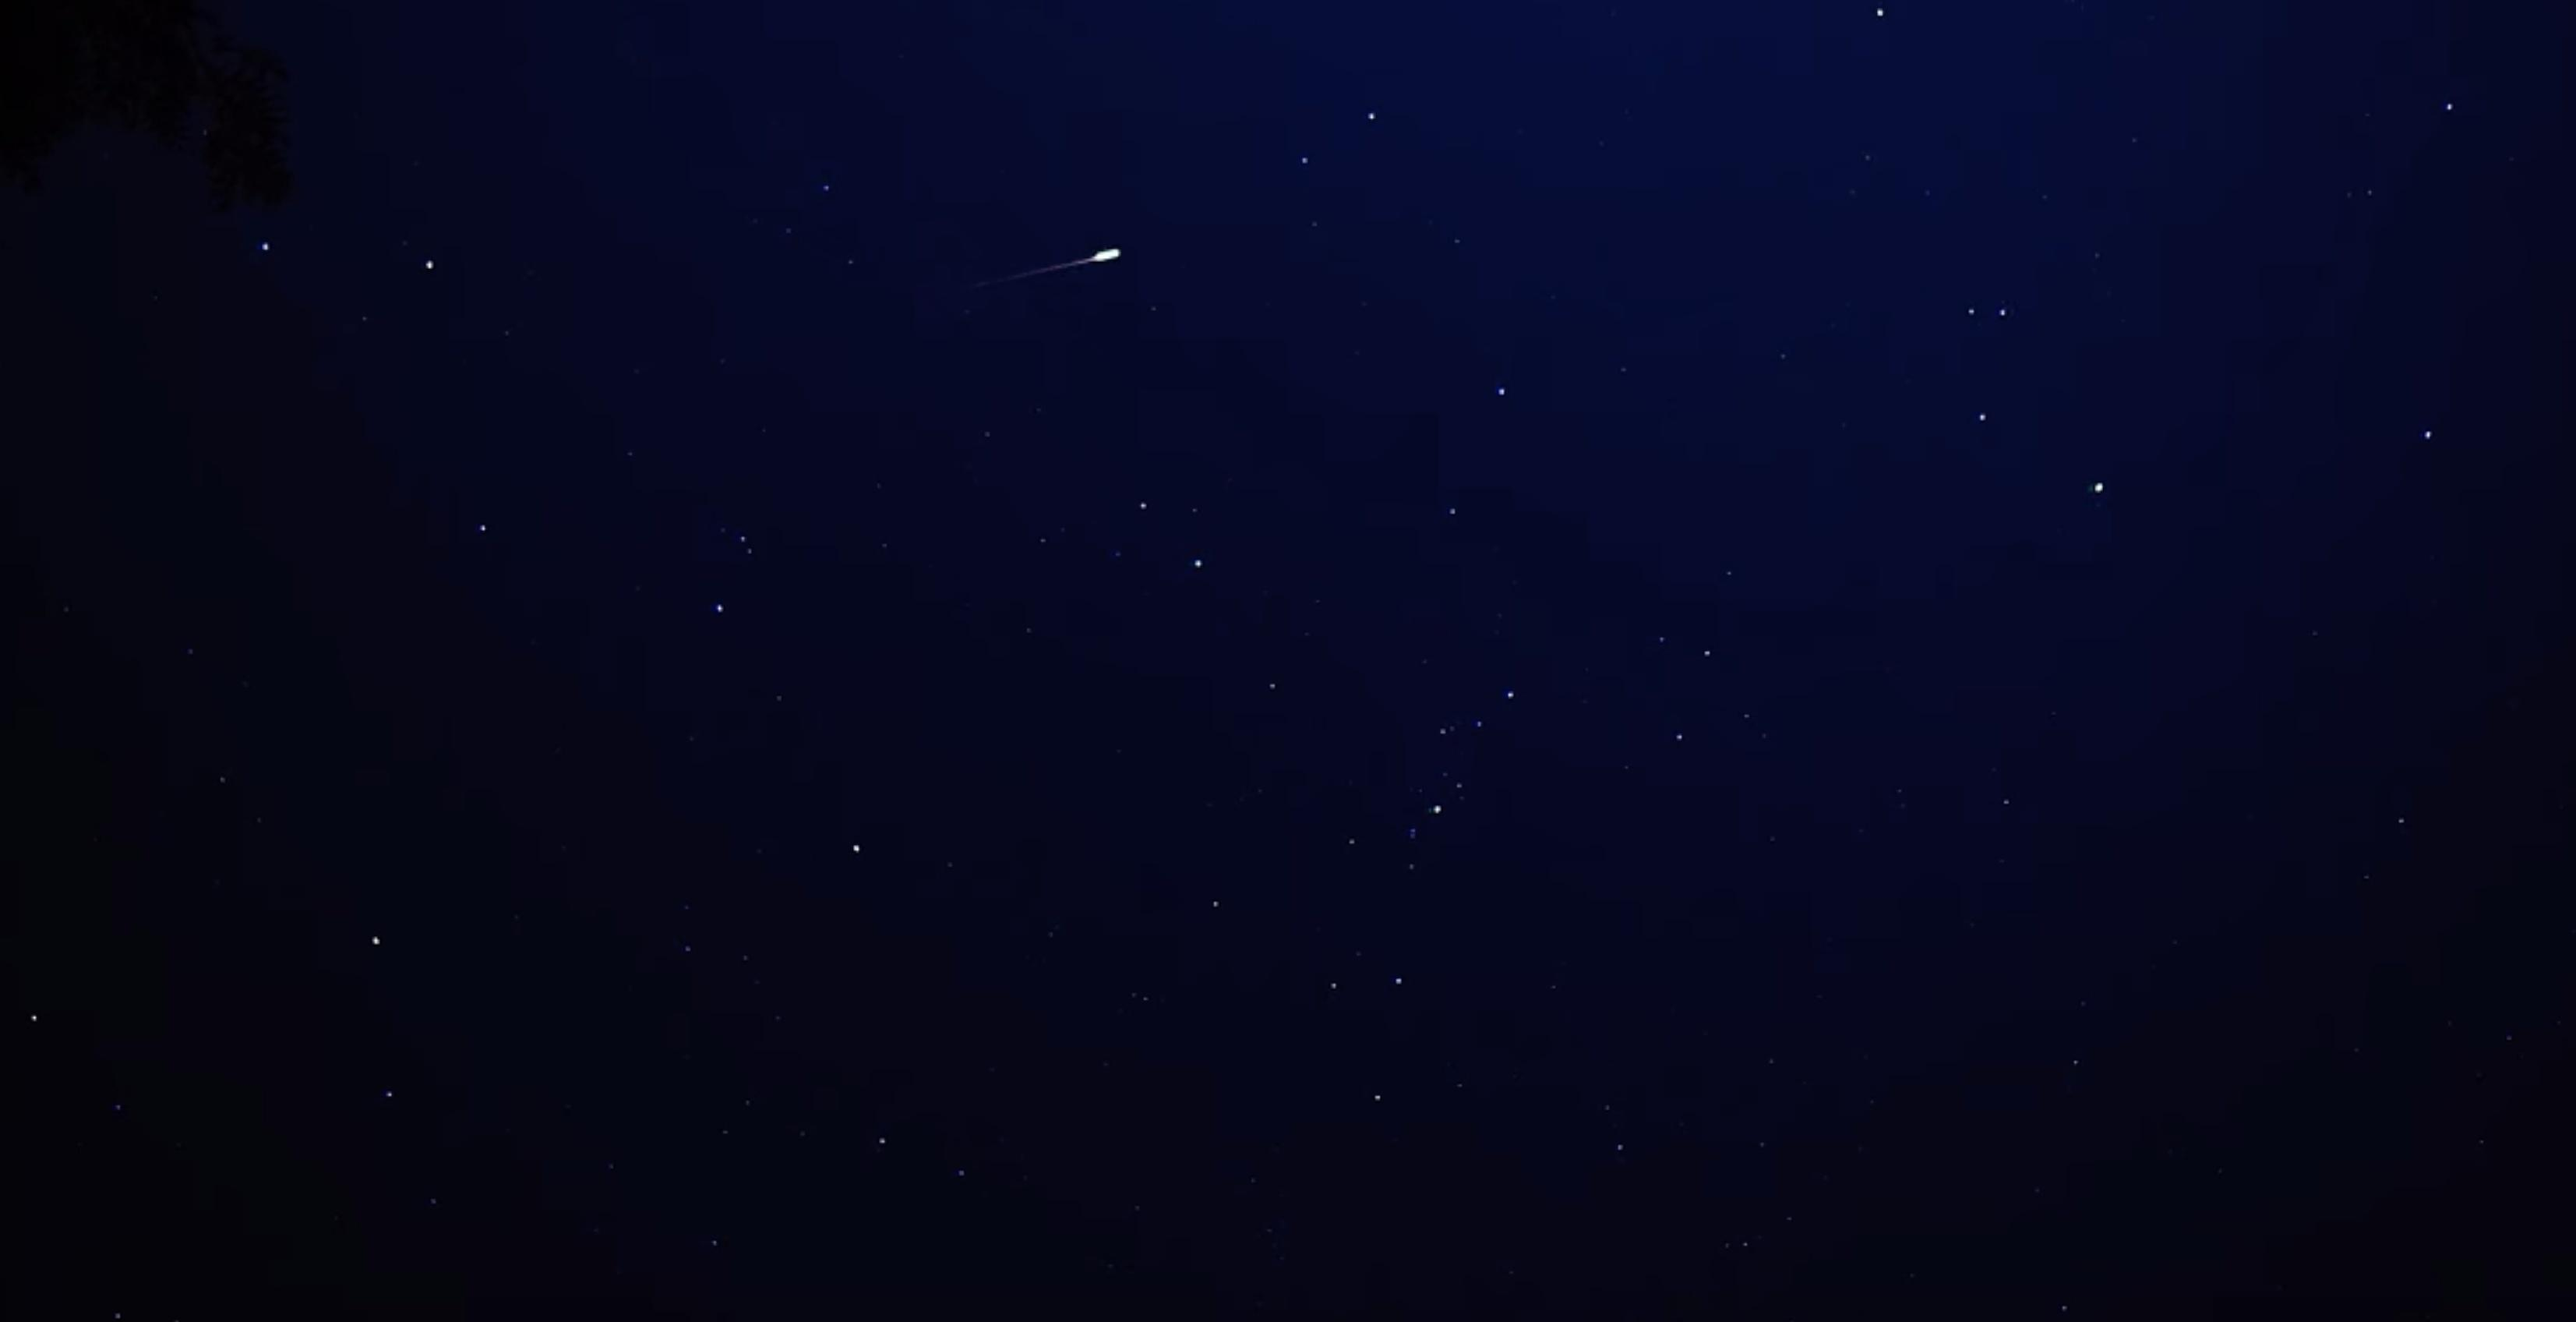meteorite: (888, 236, 1200, 300)
